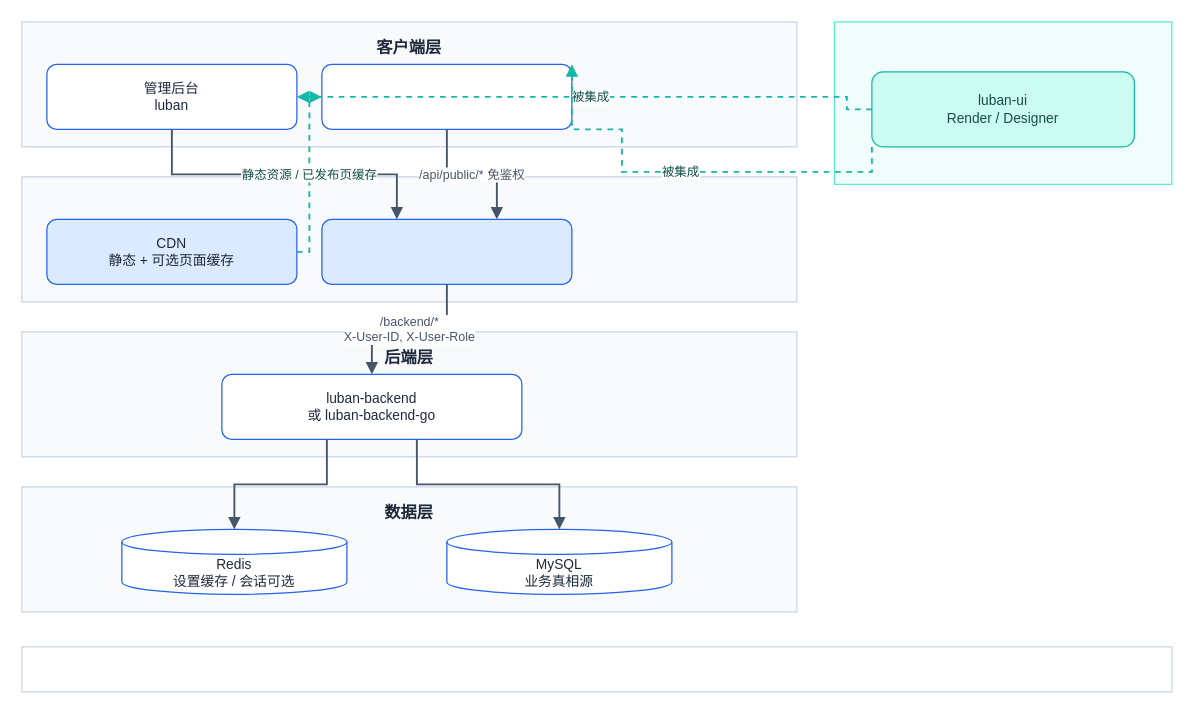
Image size: 1194x714. Some labels were removed from this diagram. Each missing label, with the box of its shape:
luban-bff 认证 / 聚合 / 协议适配: (321, 218, 572, 284)
前端资产: (833, 21, 1172, 184)
图例：白底蓝边 = 应用节点；蓝填充 = 边缘接入核心；青绿色 = 前端资产（被集成）。实线 = 运行时调用，虚线 = 构建/集成关系。: (21, 646, 1172, 692)
对外站点 luban-website: (321, 63, 572, 129)
边缘与接入层: (21, 176, 797, 302)
